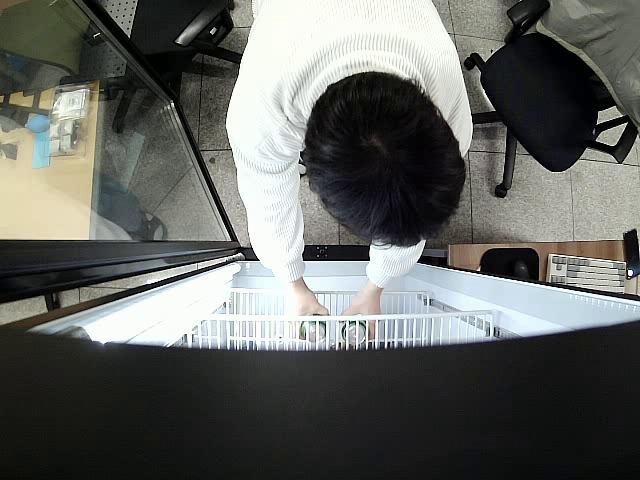12_chilsungCider: (300, 314, 327, 342), (342, 322, 368, 346)
